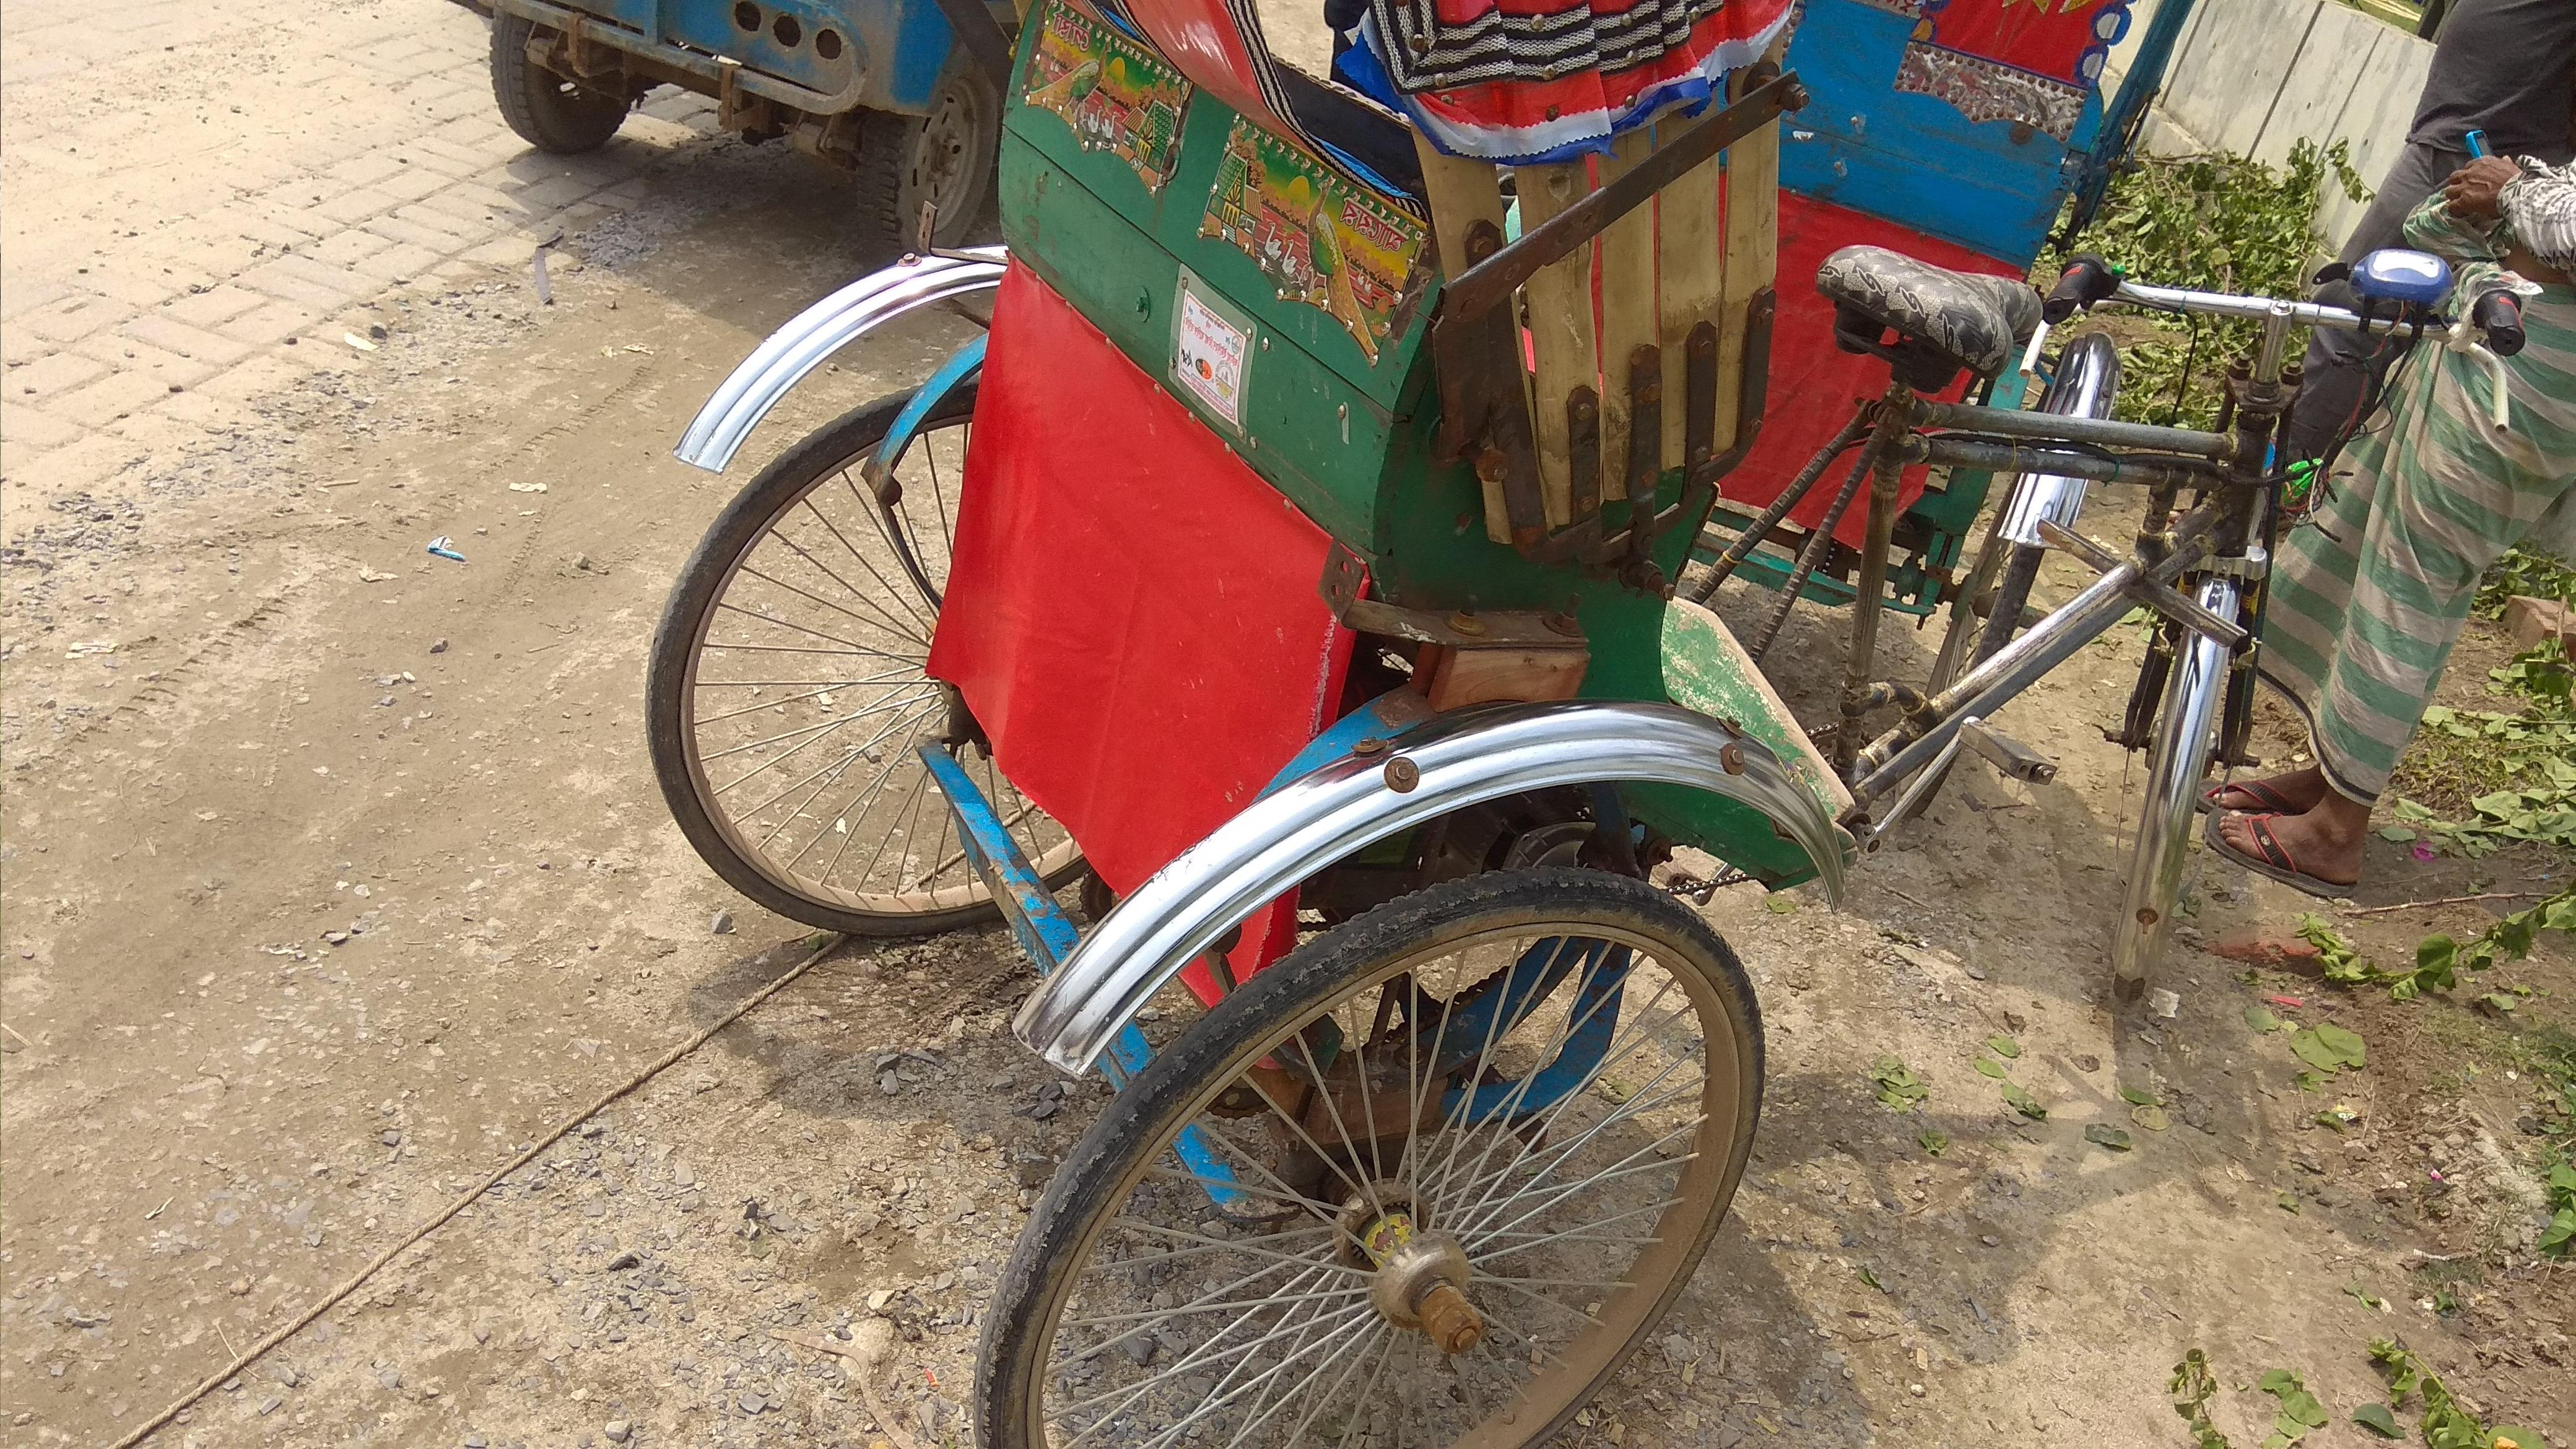Rickshaw: (672, 19, 2268, 1375)
